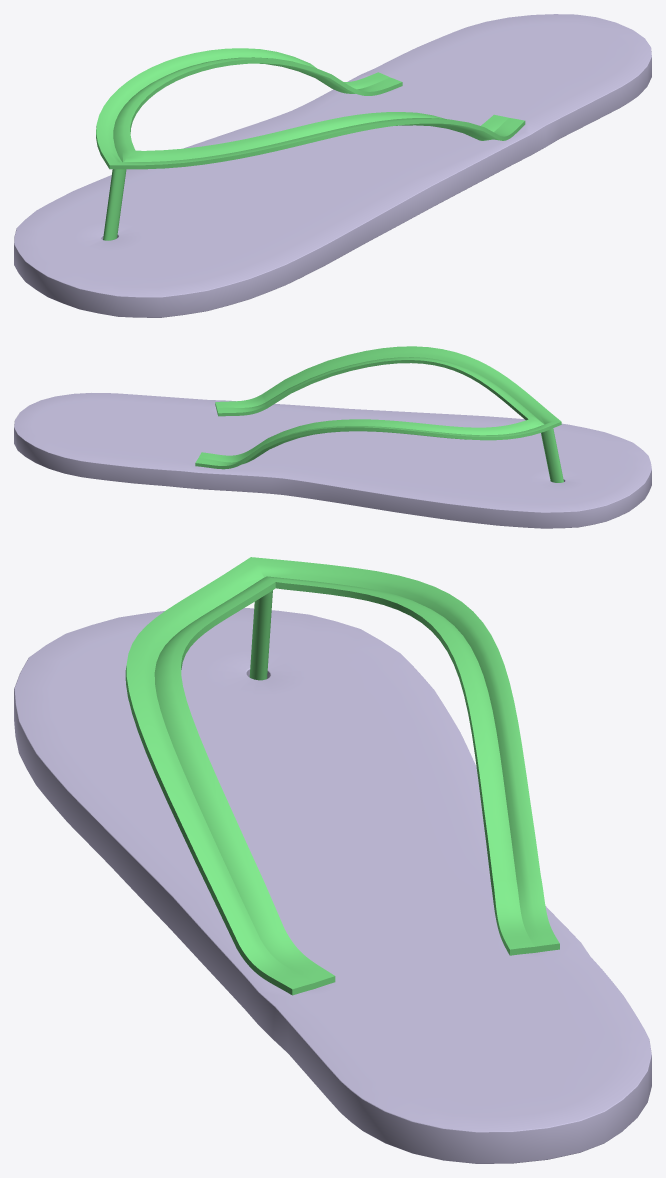
The model's file is tong1_t_.fbx.
3 renders of one model, top to bottom at view 1: azimuth 30°, elevation 25°; view 2: azimuth 150°, elevation 25°; view 3: azimuth 270°, elevation 25°, orthographic. The views are drawn at different scales.
Parts seen in each view (by area): view 1: Chancletas OBJ.001; view 2: Chancletas OBJ.001; view 3: Chancletas OBJ.001.
Boxes of the visible parts, x1,y1,x2,y2 form: Chancletas OBJ.001: [14, 14, 651, 317]; Chancletas OBJ.001: [14, 346, 651, 528]; Chancletas OBJ.001: [14, 557, 651, 1163].
Bounding box in the file's own units: 55 × 8.52 × 28.29.
